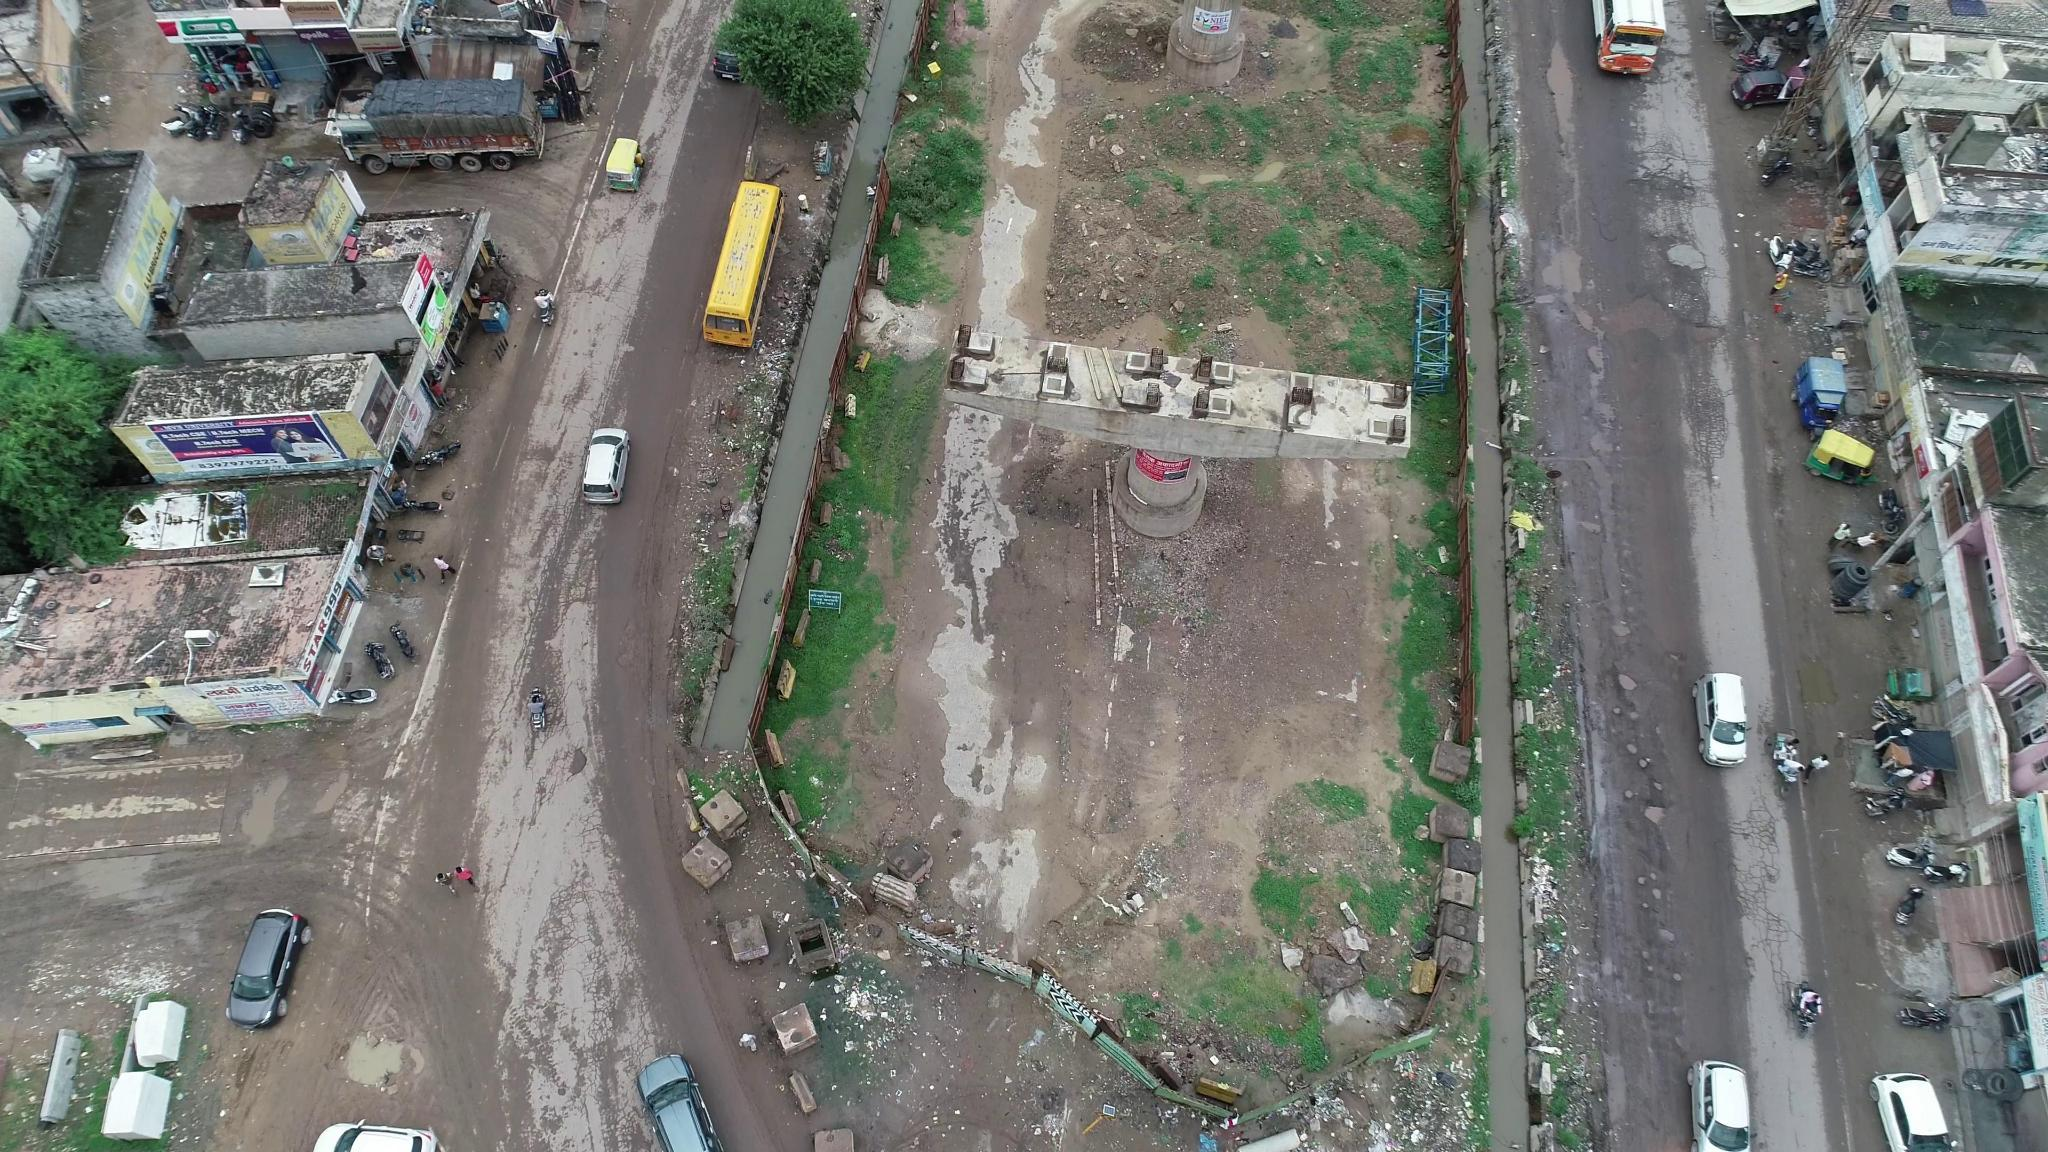Cracks: (513, 512, 596, 665), (578, 926, 633, 1097), (527, 869, 610, 978), (1677, 359, 1748, 466), (1634, 129, 1701, 236)
Potholes: (1616, 663, 1687, 820), (1636, 859, 1702, 987)
